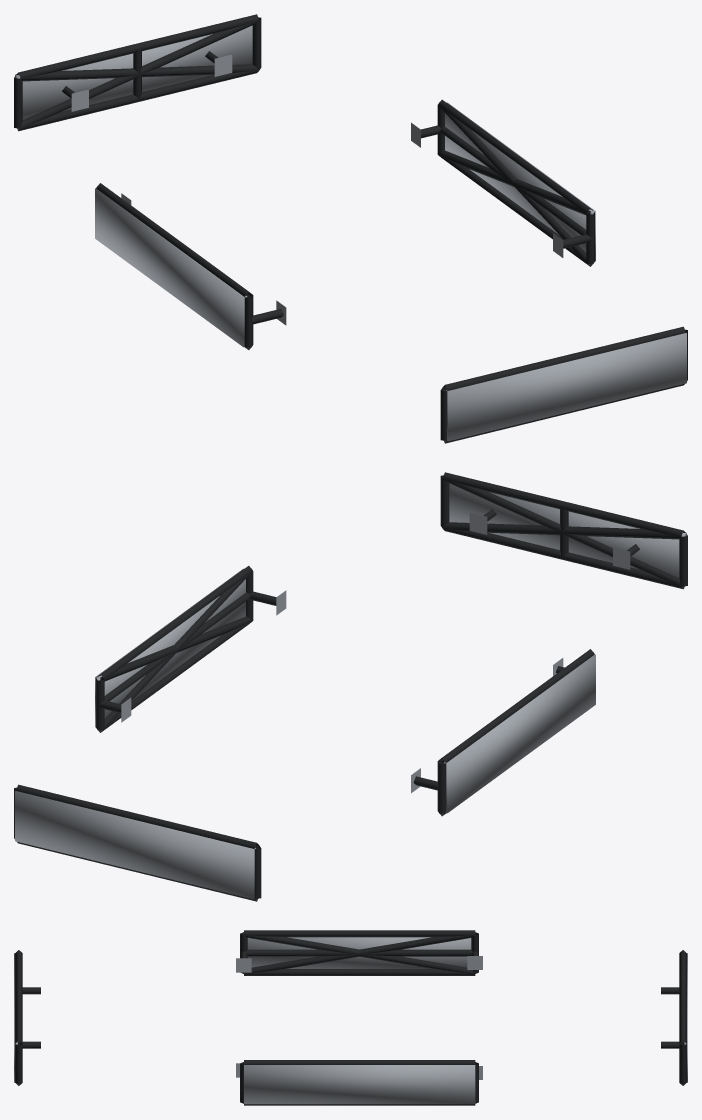
The model's file is keldorf_rubi_protecao.glb.
3 renders of one model, top to bottom at view 1: azimuth 30°, elevation 25°; view 2: azimuth 150°, elevation 25°; view 3: azimuth 270°, elevation 25°, orthographic. The views are drawn at different scales.
Parts seen in each view (by area): view 1: Protection_front_Level3_Details, Protection_left_Level3_Details, Protection_rear_Level1_Details, Protection_rear_Level3_Details, Protection_right_Level1_Details, Protection_rear_Level2_Details, Protection_right_Level2_Details, Protection_right_Level3_Details, Protection_front_Level1_Details, Protection_left_Level1_Details; view 2: Protection_rear_Level3_Details, Protection_left_Level3_Details, Protection_front_Level1_Details, Protection_front_Level3_Details, Protection_right_Level1_Details, Protection_front_Level2_Details, Protection_right_Level2_Details, Protection_right_Level3_Details, Protection_rear_Level1_Details, Protection_left_Level1_Details; view 3: Protection_right_Level3_Details, Protection_left_Level2_Details, Protection_left_Level1_Details, Protection_left_Level3_Details, Protection_right_Level1_Details, Protection_rear_Level1_Details, Protection_front_Level1_Details.
Boxes of the visible parts, x1,y1,x2,y2 form: Protection_front_Level3_Details: (446,333,686,441); Protection_left_Level3_Details: (95,188,247,347); Protection_rear_Level1_Details: (14,14,261,131); Protection_rear_Level3_Details: (15,25,252,119); Protection_right_Level1_Details: (411,99,594,266); Protection_rear_Level2_Details: (16,21,259,130); Protection_right_Level2_Details: (438,106,593,266); Protection_right_Level3_Details: (445,102,595,261); Protection_front_Level1_Details: (440,326,687,443); Protection_left_Level1_Details: (96,183,286,349); Protection_rear_Level3_Details: (15,791,255,899); Protection_left_Level3_Details: (443,654,595,813); Protection_front_Level1_Details: (440,472,687,589); Protection_front_Level3_Details: (449,483,686,577); Protection_right_Level1_Details: (96,566,286,732); Protection_front_Level2_Details: (442,479,685,588); Protection_right_Level2_Details: (96,572,252,732); Protection_right_Level3_Details: (95,568,245,727); Protection_rear_Level1_Details: (14,784,261,901); Protection_left_Level1_Details: (411,649,594,816); Protection_right_Level3_Details: (244,1065,475,1104); Protection_left_Level2_Details: (243,932,475,973); Protection_left_Level1_Details: (236,930,482,975); Protection_left_Level3_Details: (247,937,471,968); Protection_right_Level1_Details: (236,1060,482,1105); Protection_rear_Level1_Details: (661,950,686,1085); Protection_front_Level1_Details: (15,950,40,1085).
Bounding box in the file's own units: 2.22 × 0.354 × 4.72.
1 material, 1 textured.
